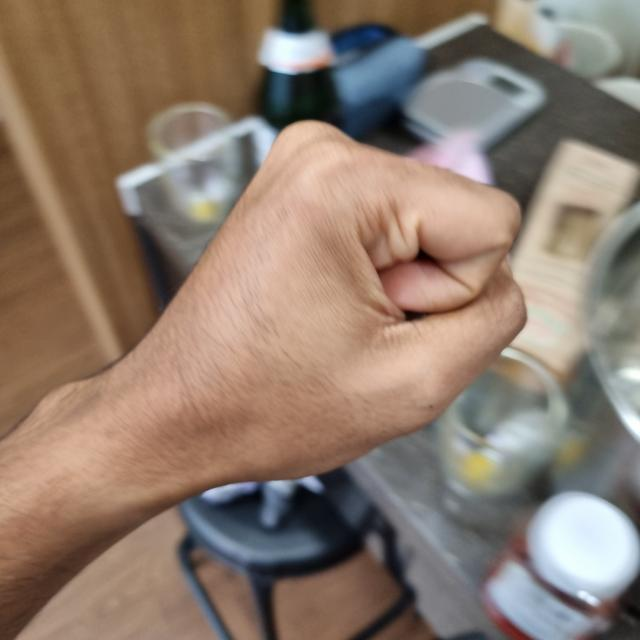Rock: (104, 121, 526, 491)
